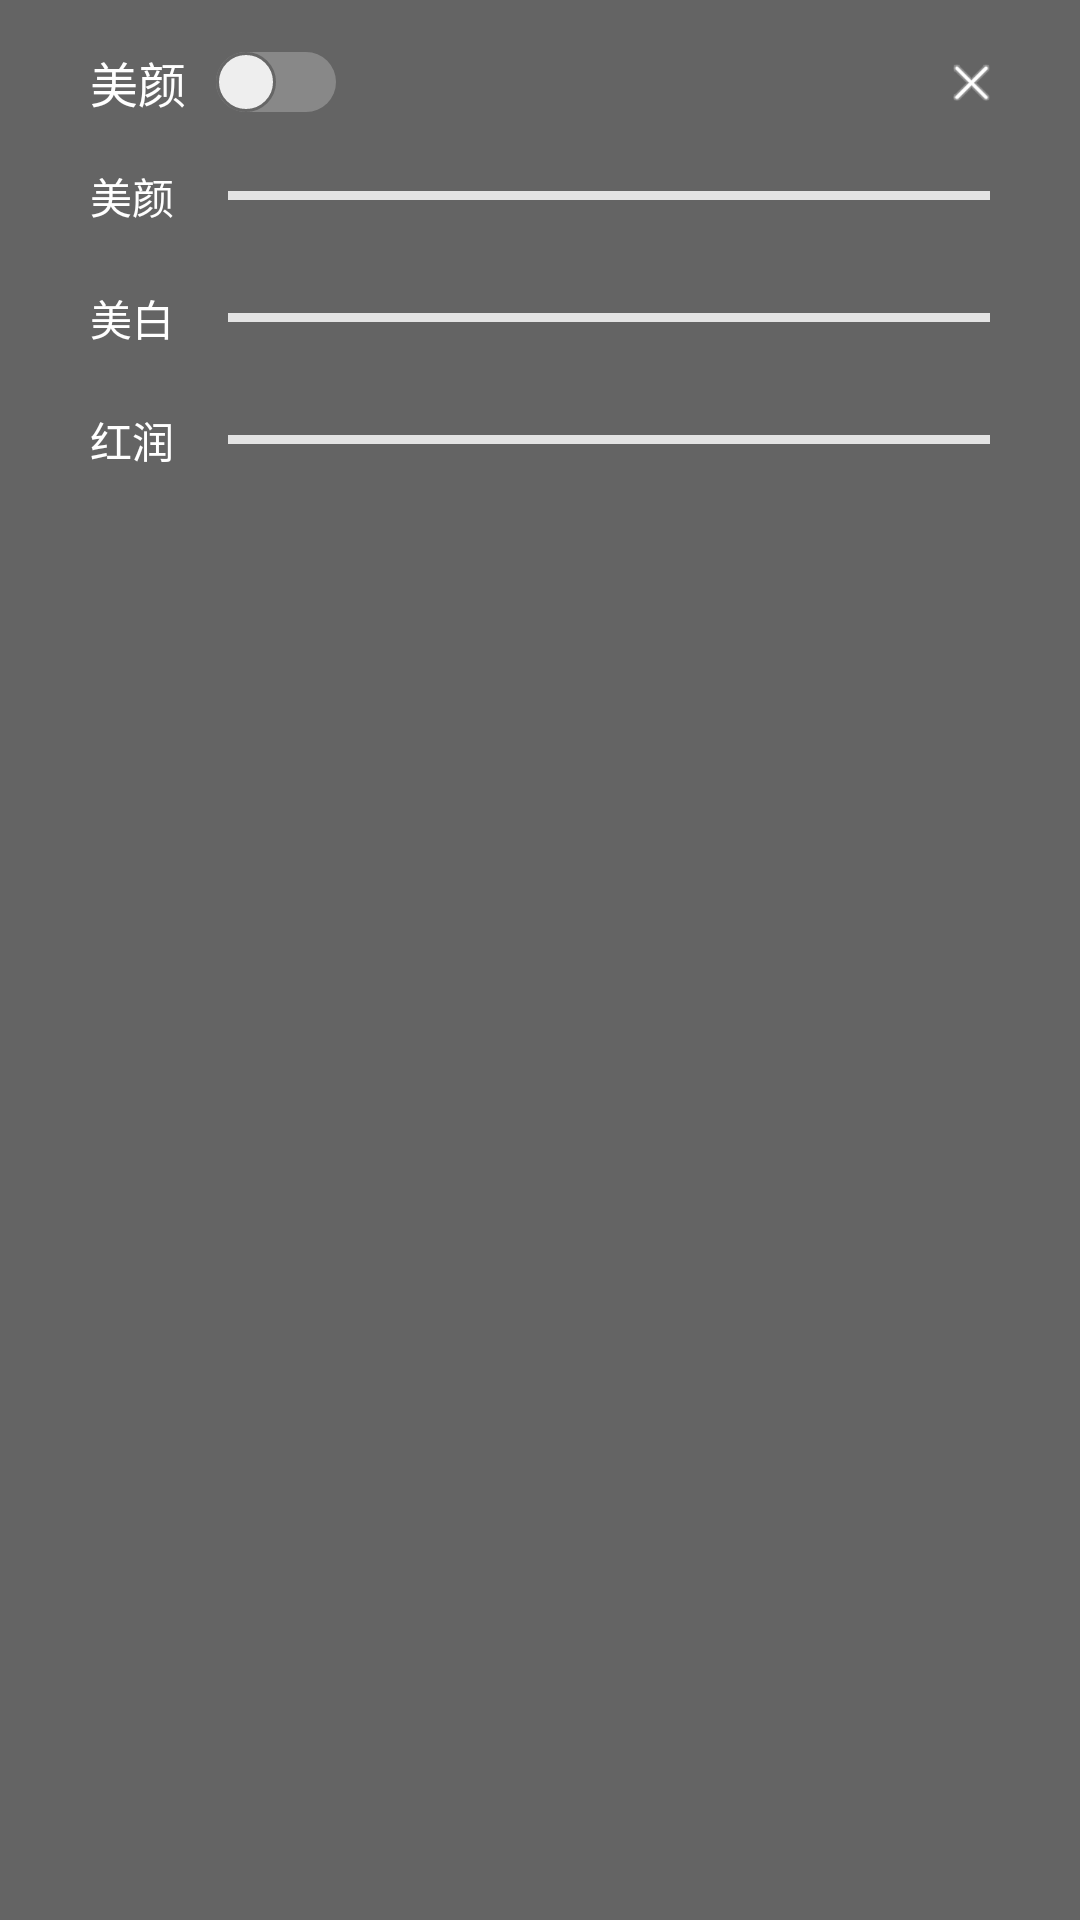

Icons on this 1080 × 1920 Android screen, each with its box as BBox(x1, y1, x2, y2):
live close: BBox(954, 65, 989, 100)
